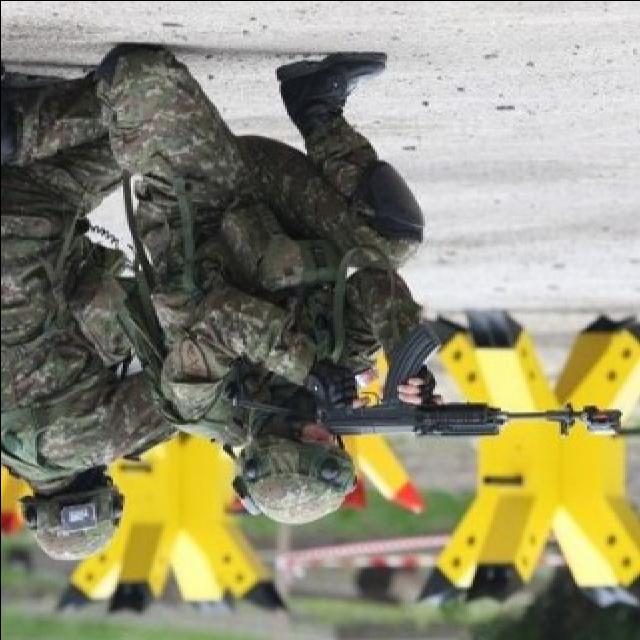rifle: (303, 327, 625, 445)
